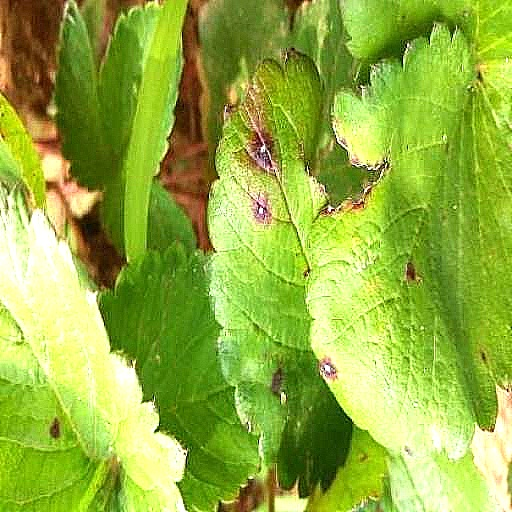Leaf Spot: (304, 47, 511, 492), (205, 12, 353, 465)
